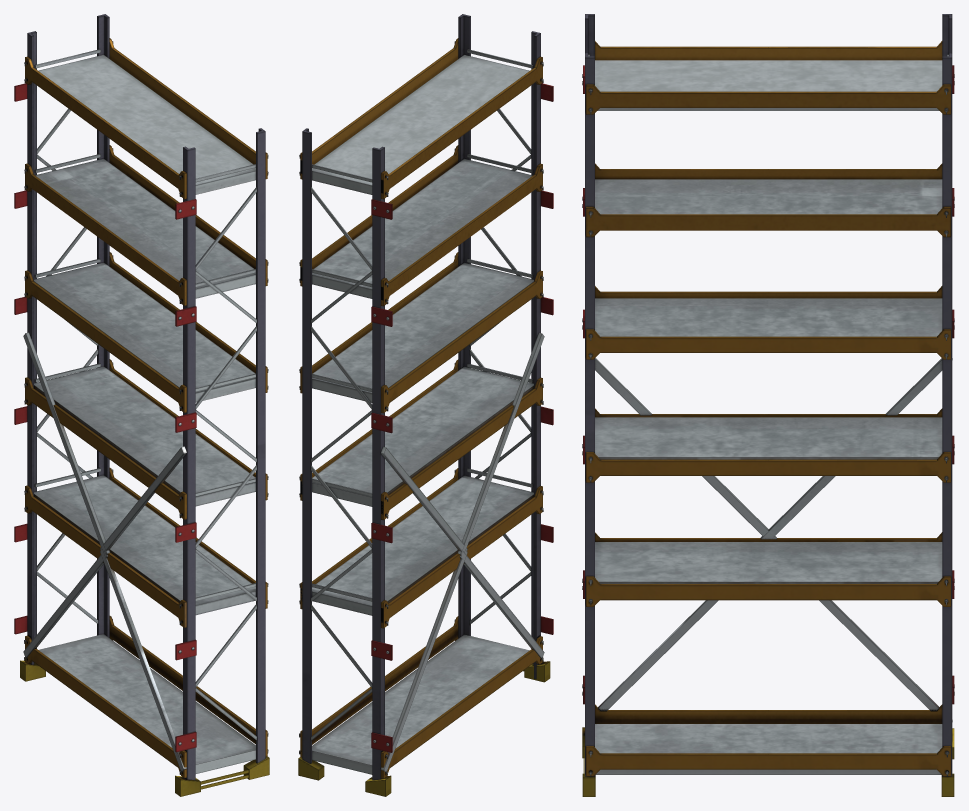
3 views of the same model, side by side, from view 1: azimuth 30°, elevation 25°; view 2: azimuth 150°, elevation 25°; view 3: azimuth 270°, elevation 25° (orthographic). The views are drawn at different scales.
Visible parts, largest first — view 1: polka_3.1, polka_4.1, polka_6.1, polka_5.1, polka_2.1, polka_1.1, stoyka, stoyka.001, stoyka.004, balka.004, balka.005, balka.006 (+14 smaller); view 2: polka_3.1, polka_4.1, polka_6.1, polka_5.1, polka_2.1, polka_1.1, stoyka.004, stoyka.003, stoyka, balka.004, balka.001, balka.005 (+14 smaller); view 3: polka_3.1, polka_2.1, polka_4.1, polka_5.1, polka_1.1, polka_6.1, balka.010, balka, balka.008, balka.009, balka.011, balka.007 (+12 smaller).
Part boxes in pixels (x1,y1,x2,y2): polka_3.1: (34,366,255,506); polka_4.1: (34,262,255,402); polka_6.1: (38,54,255,194); polka_5.1: (35,158,255,298); polka_2.1: (34,475,255,615); polka_1.1: (39,634,255,773); stoyka: (183,146,195,780); stoyka.001: (256,128,265,763); stoyka.004: (27,31,36,664); balka.004: (25,270,186,412); balka.005: (25,163,186,305); balka.006: (25,56,186,198); polka_3.1: (312,366,533,506); polka_4.1: (312,262,533,402); polka_6.1: (312,54,529,194); polka_5.1: (312,158,532,298); polka_2.1: (312,475,533,615); polka_1.1: (312,634,529,774); stoyka.004: (372,146,384,780); stoyka.003: (302,128,311,763); stoyka: (531,31,540,679); balka.004: (381,270,542,413); balka.001: (381,180,542,778); balka.005: (381,163,542,306); polka_3.1: (595,417,942,459); polka_2.1: (595,542,942,583); polka_4.1: (595,298,942,336); polka_5.1: (595,179,942,214); polka_1.1: (595,724,942,774); polka_6.1: (595,60,942,110); balka.010: (586,206,950,237); balka: (586,746,950,776); balka.008: (586,452,950,482); balka.009: (586,329,950,359); balka.011: (586,84,950,114); balka.007: (586,576,950,606).
Bounding box in the file's own units: 25.49 × 165 × 75.46.
Materials: 14 (14 with a texture image).
